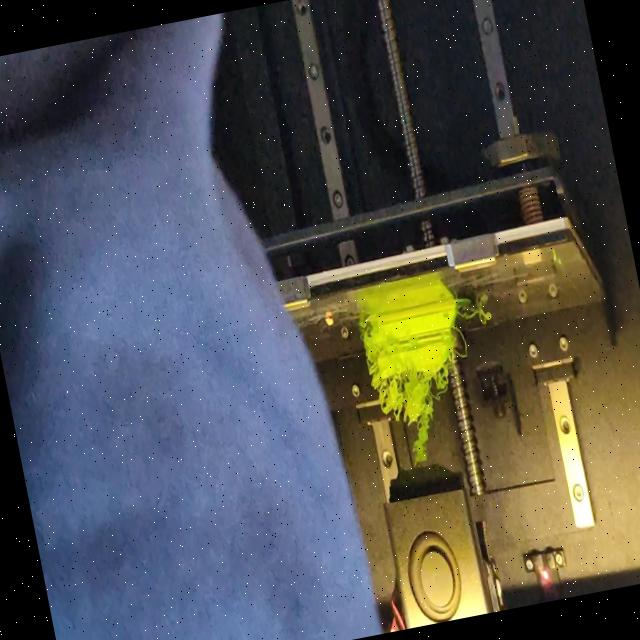spaghetti: (376, 369, 468, 474), (455, 302, 497, 331), (447, 322, 472, 360), (360, 321, 375, 334)
